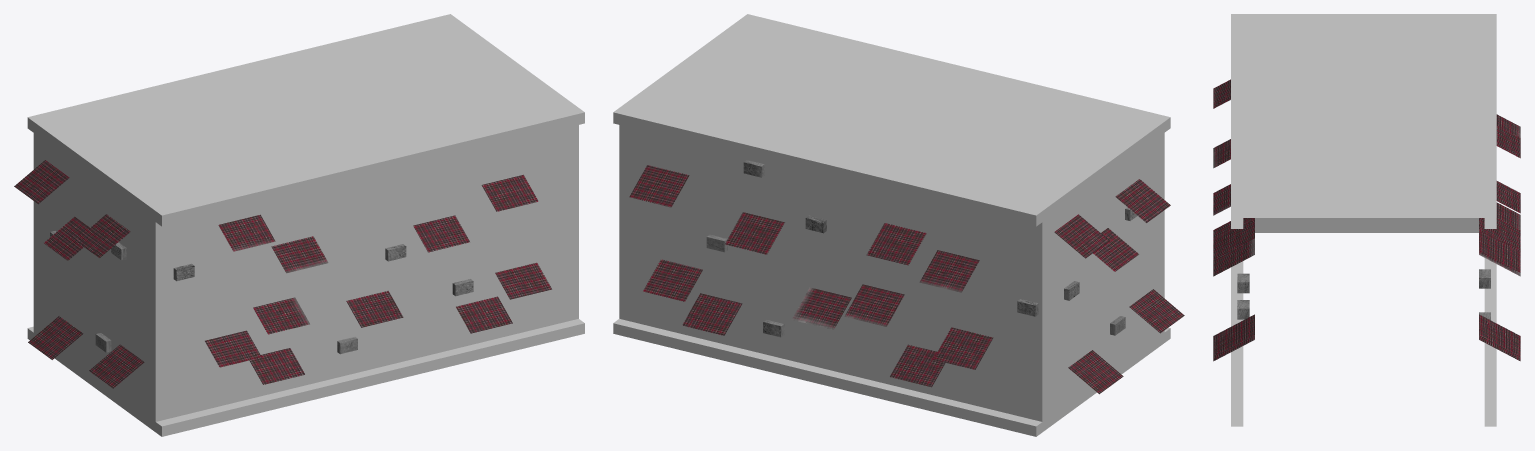
File: Building_002.fbx
3 views of the same model, side by side, from view 1: azimuth 30°, elevation 25°; view 2: azimuth 150°, elevation 25°; view 3: azimuth 270°, elevation 25° (orthographic).
Visible parts, largest first — view 1: Cube.002; view 2: Cube.002; view 3: Cube.002.
Part boxes in pixels (<box>): Cube.002: <box>14,14,584,436</box>; Cube.002: <box>613,14,1184,436</box>; Cube.002: <box>1213,14,1520,426</box>.
Bounding box in the file's own units: 430 × 200 × 255.
